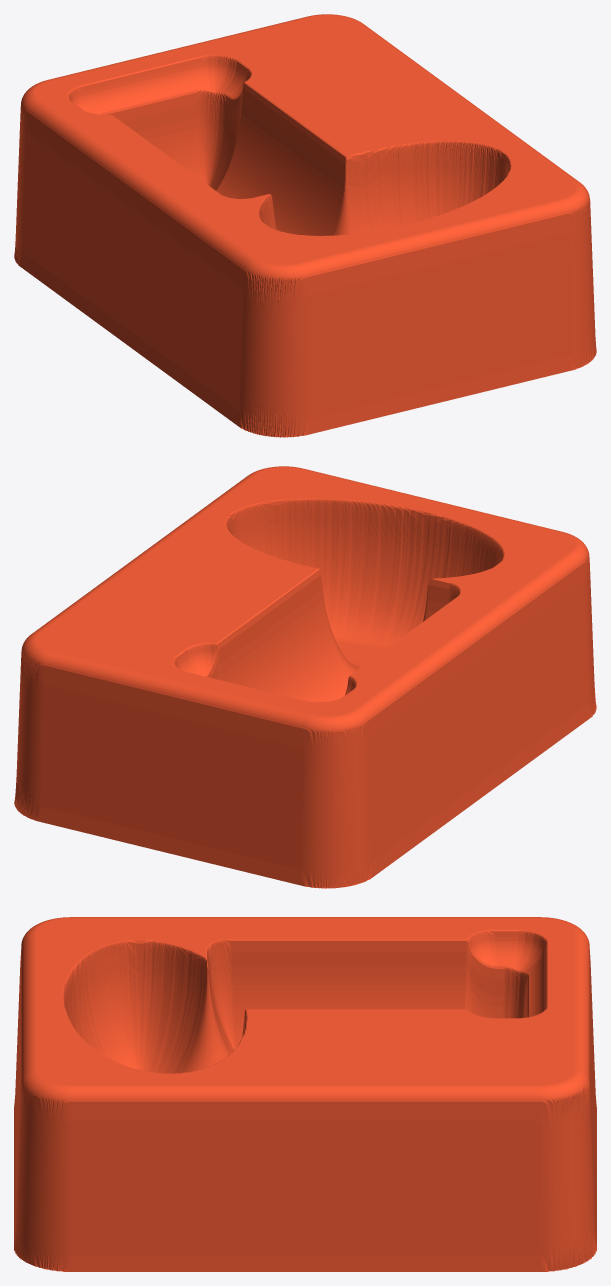
Rendered from mold.glb.
3 views of the same model, one above another, from view 1: azimuth 30°, elevation 25°; view 2: azimuth 150°, elevation 25°; view 3: azimuth 270°, elevation 25° (orthographic). The views are drawn at different scales.
Visible parts, largest first — view 1: geometry_0; view 2: geometry_0; view 3: geometry_0.
Part boxes in pixels (bbox=[...]): geometry_0: bbox=[14, 14, 596, 437]; geometry_0: bbox=[14, 466, 596, 888]; geometry_0: bbox=[14, 917, 596, 1271].
Bounding box in the file's own units: 0.0696 × 0.031 × 0.0924.
